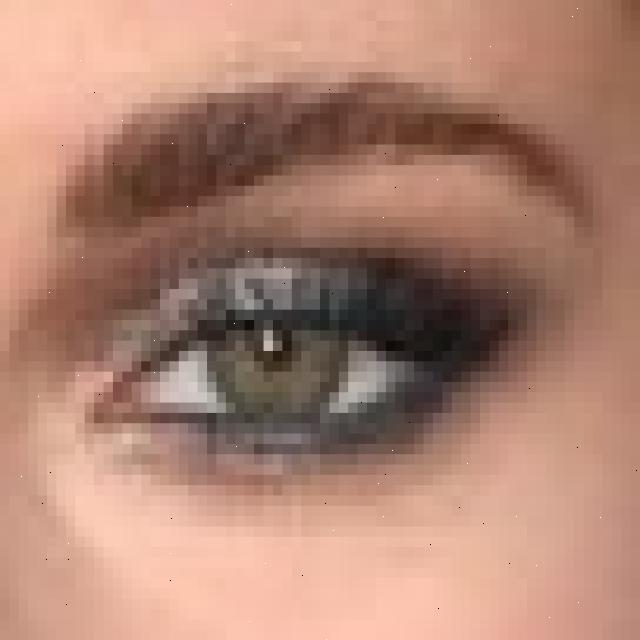Normal: (202, 278, 351, 430)
